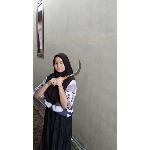Celurit: (53, 56, 83, 85)
